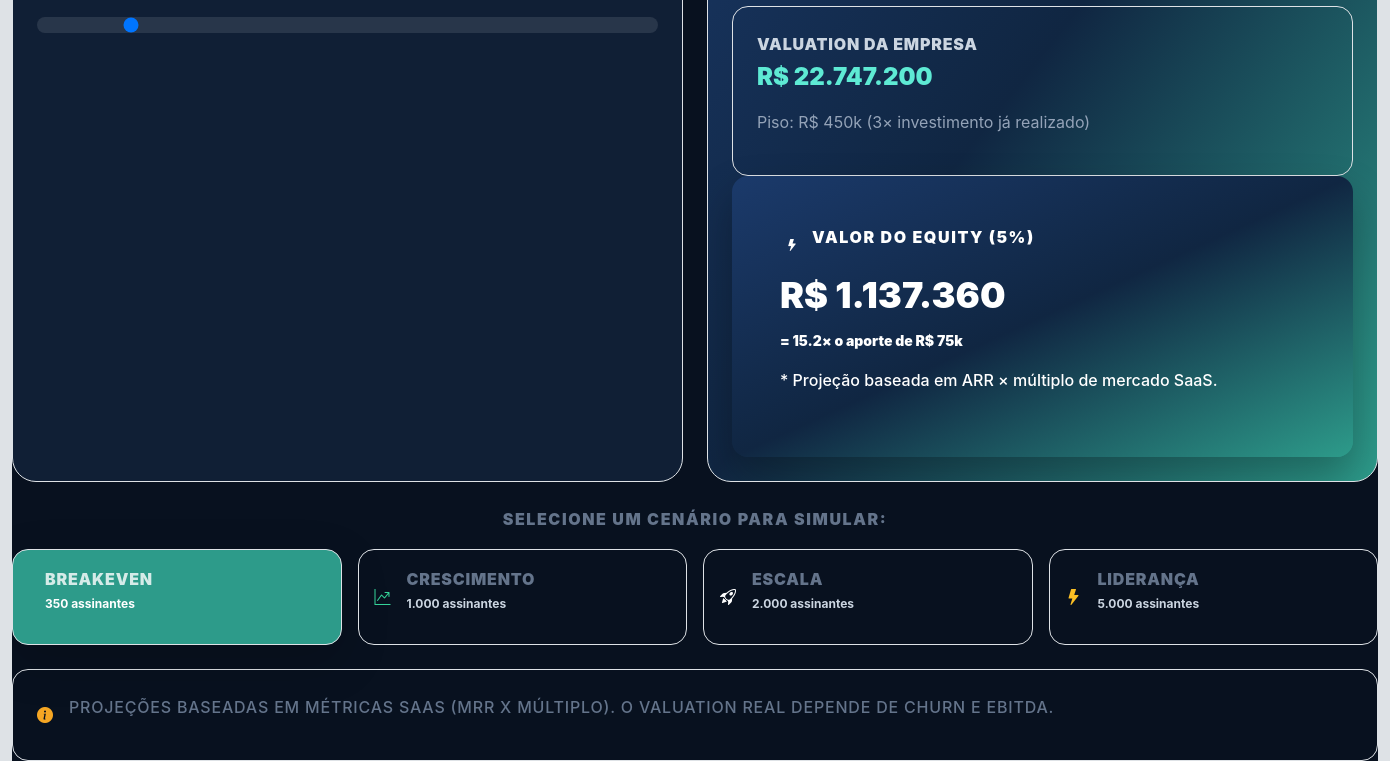
Test: ROISimulator › loads scenario when clicking pre-configured button
(page scrolled)
Click the text "1.000 assinantes" at (456, 604), box [406,596,506,611]
(page scrolled)
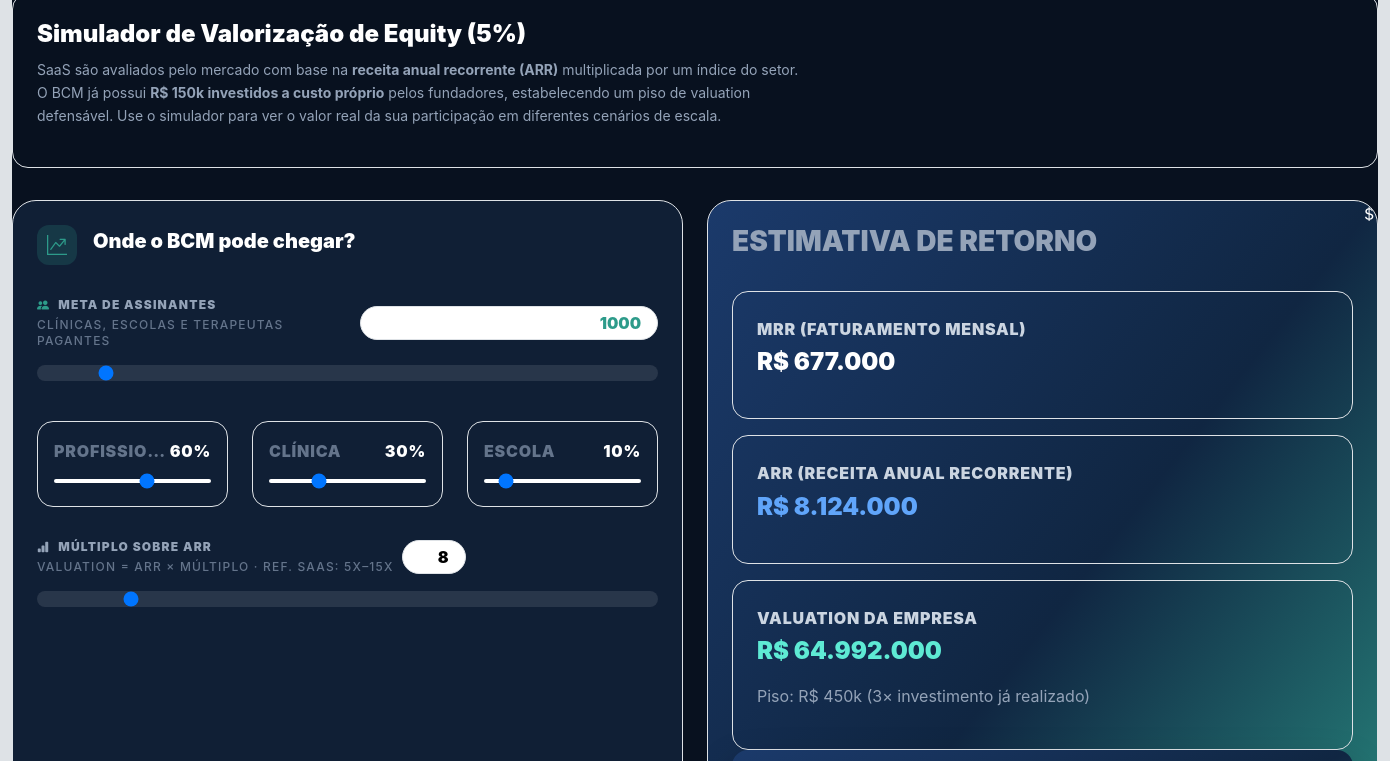
Expected: the field showing "1000" next to "clínicas, escolas e terapeutas pagantes" is shown, [360,306,658,340]
